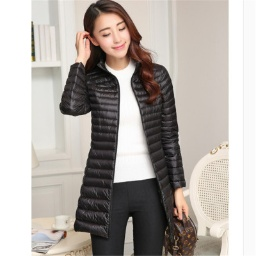face: (80, 2, 153, 69)
